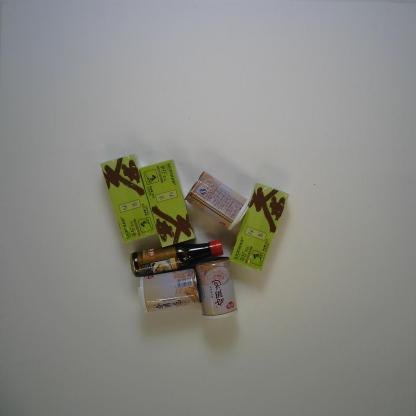Canned Food: (184, 170, 250, 231), (137, 267, 202, 316), (194, 255, 239, 321)
Instant Drink: (99, 153, 158, 245), (228, 184, 289, 272), (139, 159, 196, 248)
Seasoner: (130, 237, 224, 279)
